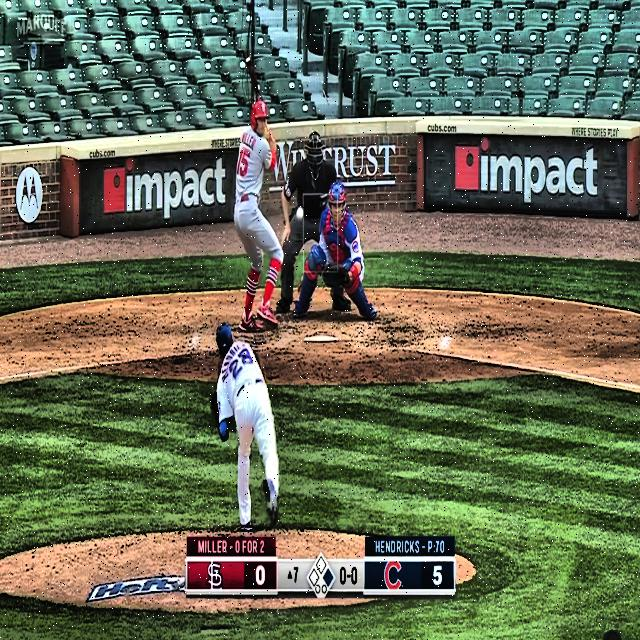baseball: (296, 206, 304, 222)
